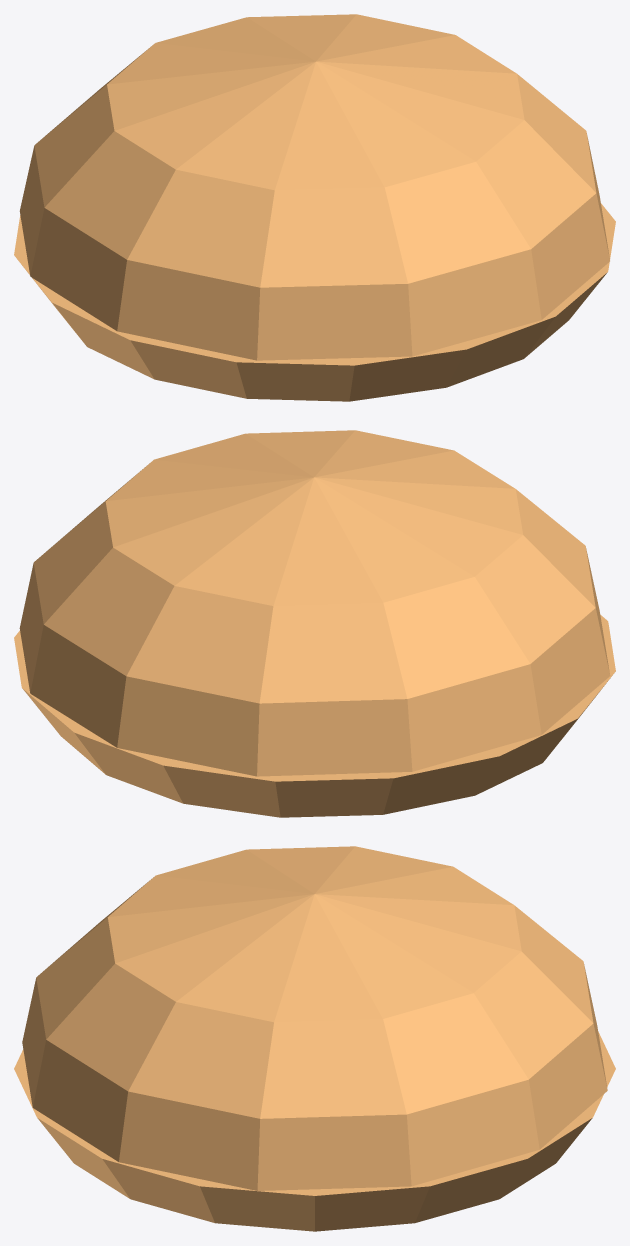
The model's file is Bun.fbx.
3 renders of one model, top to bottom at view 1: azimuth 30°, elevation 25°; view 2: azimuth 150°, elevation 25°; view 3: azimuth 270°, elevation 25°, orthographic.
Visible parts, largest first — view 1: BunTop, Bun; view 2: BunTop, Bun; view 3: BunTop, Bun.
Part boxes in pixels (<box>): BunTop: <box>19,14,609,360</box>; Bun: <box>14,203,615,401</box>; BunTop: <box>19,430,610,776</box>; Bun: <box>14,615,615,817</box>; BunTop: <box>22,846,607,1190</box>; Bun: <box>14,1032,615,1231</box>.
Bounding box in the file's own units: 27.69 × 27.69 × 11.56.
